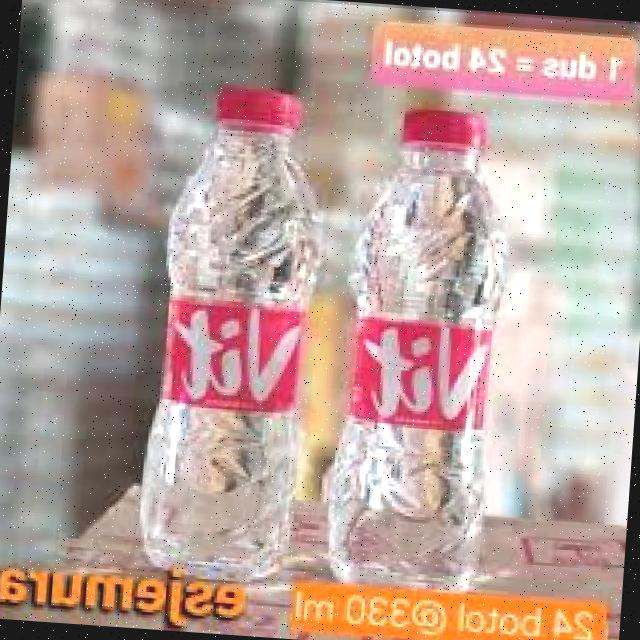bottle: (112, 81, 334, 584), (307, 94, 537, 566)
label: (146, 288, 312, 416), (330, 312, 496, 432)
